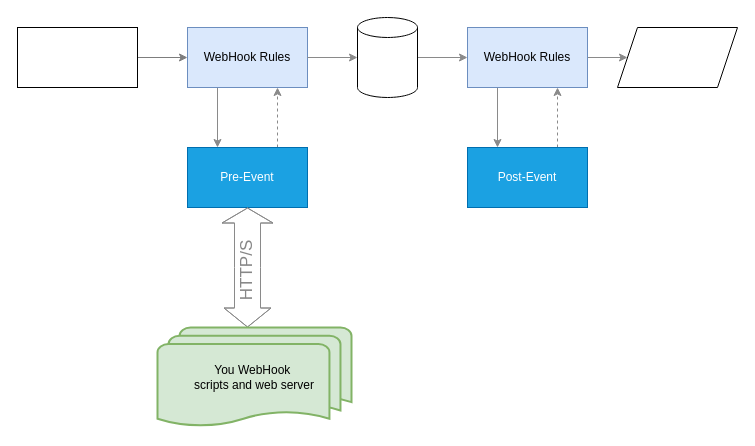
Some shapes in this 755 by 446 pixel diagram are drawn without their labels. Each missing label, with the centre of its shape:
Database: (387,57)
Entity Record Operation (create, update or delete): (77,57)
Return to caller: (677,57)
